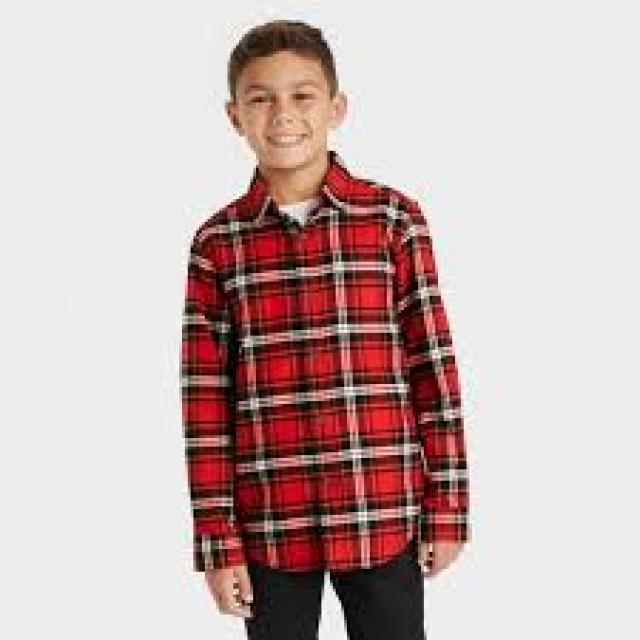plaid: (176, 153, 472, 547)
